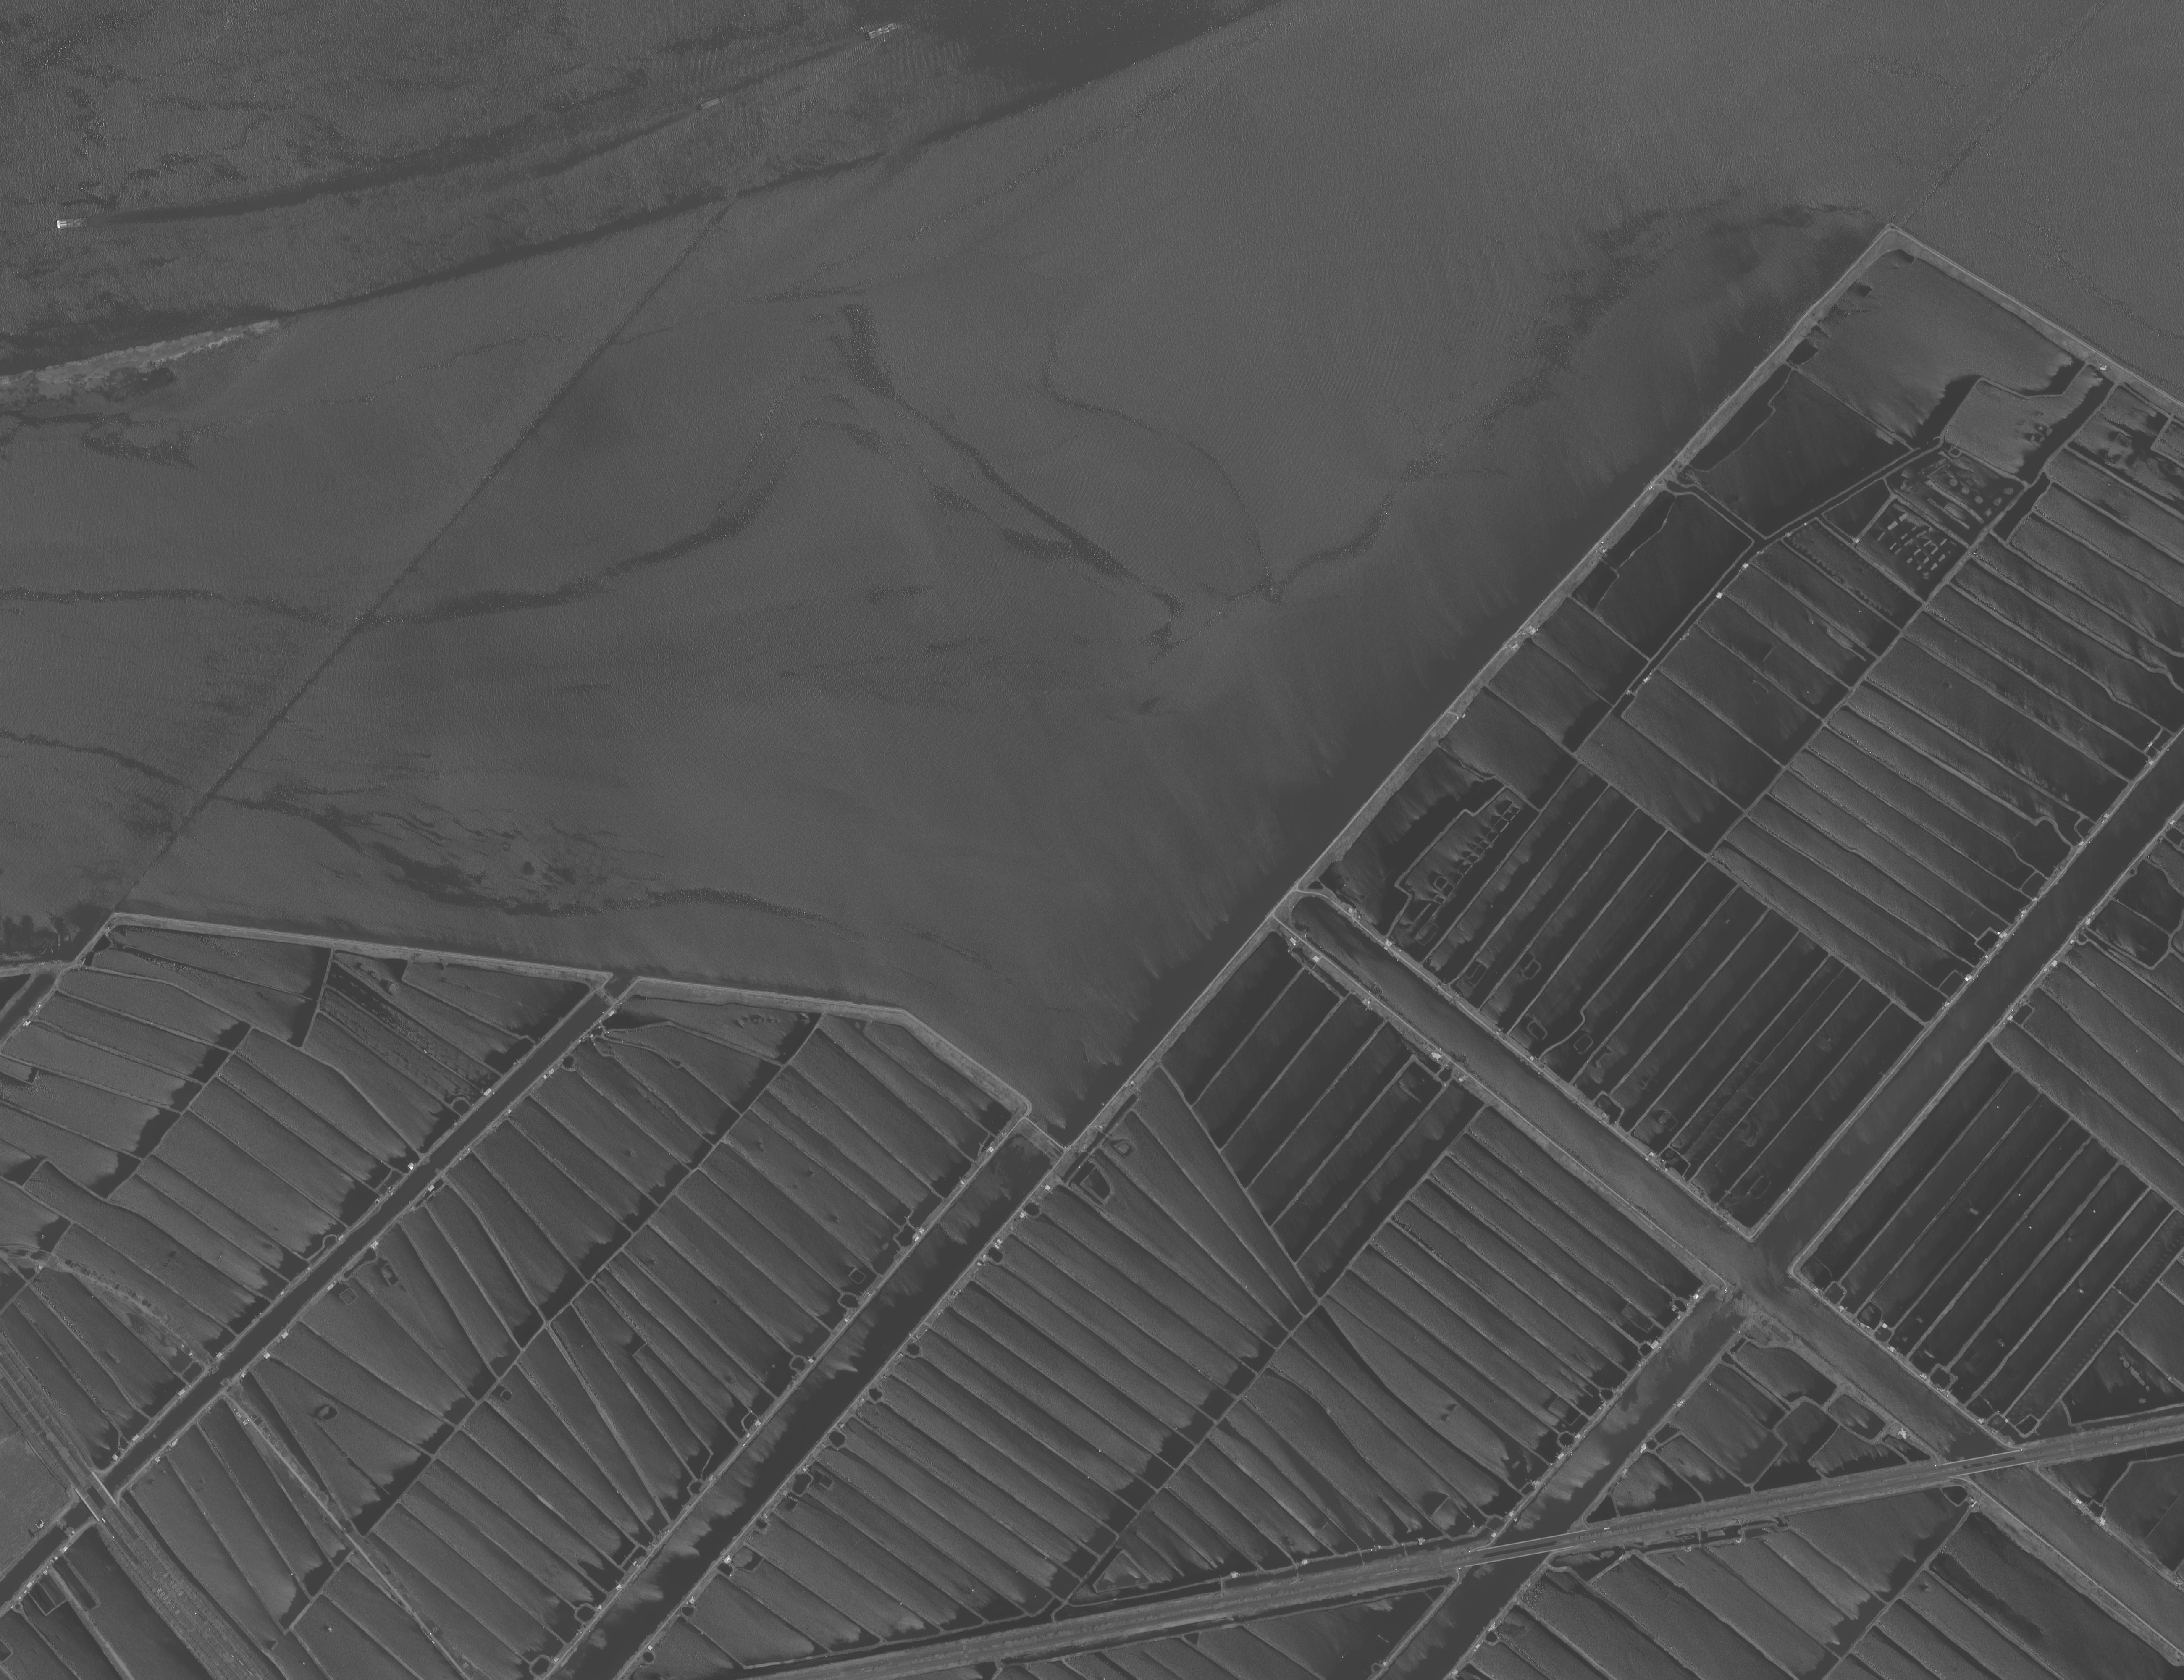ship: (861, 19, 903, 44), (693, 93, 727, 114), (53, 215, 91, 231)
